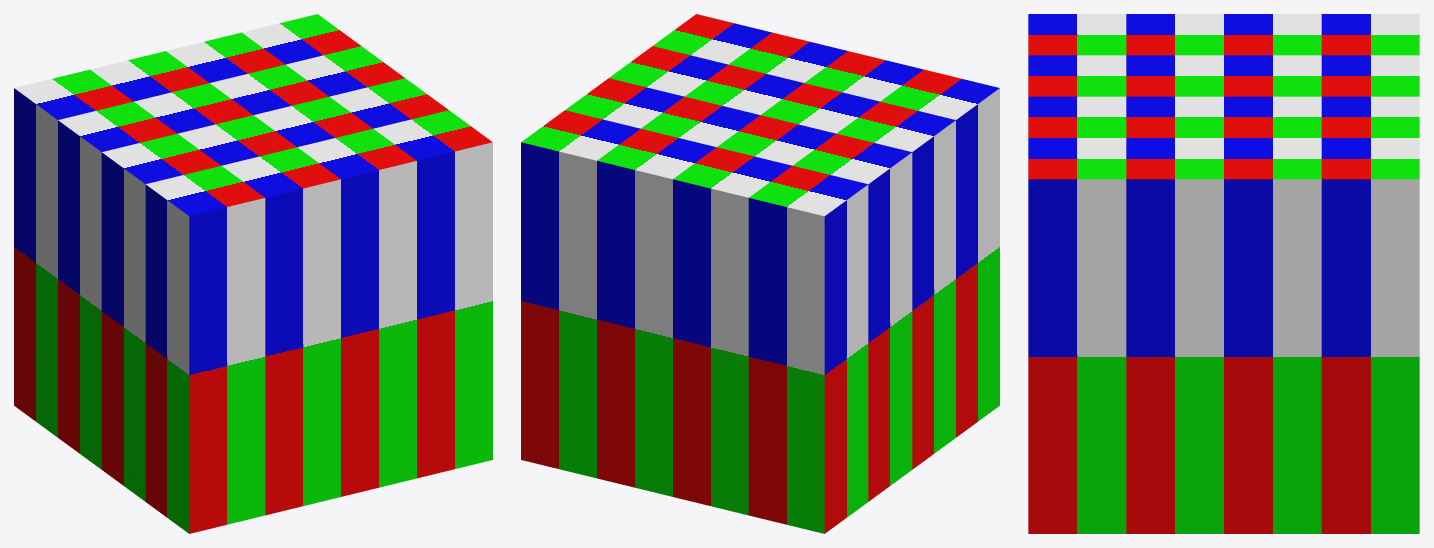
The model's file is support-seam-cube.glb.
The picture shows the model from 3 angles, left to right: view 1: azimuth 30°, elevation 25°; view 2: azimuth 150°, elevation 25°; view 3: azimuth 270°, elevation 25°; orthographic projection. The views are drawn at different scales.
Parts seen in each view (by area): view 1: SeamCube; view 2: SeamCube; view 3: SeamCube.
Boxes of the visible parts, x1,y1,x2,y2 form: SeamCube: (14,14,492,533); SeamCube: (521,14,999,533); SeamCube: (1028,14,1419,533).
Bounding box in the file's own units: 20 × 20 × 20.
Materials: 1 (1 with a texture image).
